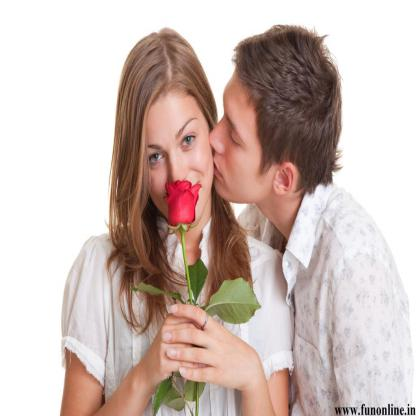face: (150, 99, 215, 228), (210, 80, 263, 205)
